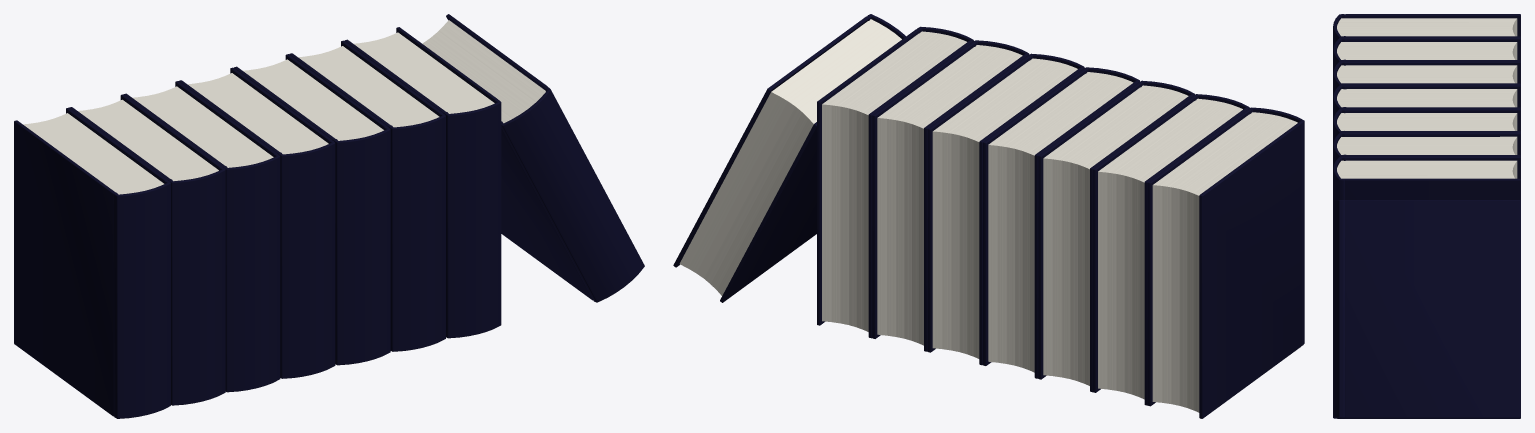
The model's file is Books.glb.
3 views of the same model, side by side, from view 1: azimuth 30°, elevation 25°; view 2: azimuth 150°, elevation 25°; view 3: azimuth 270°, elevation 25° (orthographic). The views are drawn at different scales.
Visible parts, largest first — view 1: bookCover, bookCover.007, bookCover.004, bookCover.005, bookCover.006, bookCover.003, bookCover.002, bookCover.001, bookPaper.007, bookPaper.001, bookPaper.002, bookPaper.006 (+4 smaller); view 2: bookCover, bookPaper.007, bookPaper.004, bookPaper, bookPaper.003, bookPaper.001, bookPaper.005, bookPaper.006, bookPaper.002, bookCover.007, bookCover.003, bookCover.004 (+4 smaller); view 3: bookCover.007, bookCover.006, bookPaper.002, bookPaper, bookPaper.006, bookPaper.003, bookPaper.005, bookPaper.001, bookPaper.004, bookCover.005, bookCover.002, bookCover.004 (+3 smaller).
Part boxes in pixels (x1,y1,x2,y2): bookCover: (14, 107, 170, 418); bookCover.007: (446, 14, 644, 302); bookCover.004: (234, 54, 390, 365); bookCover.005: (289, 40, 445, 351); bookCover.006: (344, 27, 501, 338); bookCover.003: (179, 67, 335, 378); bookCover.002: (124, 81, 280, 392); bookCover.001: (69, 94, 225, 405); bookPaper.007: (422, 20, 545, 123); bookPaper.001: (78, 99, 218, 181); bookPaper.002: (132, 86, 273, 167); bookPaper.006: (353, 32, 494, 113); bookCover: (1147, 107, 1304, 418); bookPaper.007: (679, 19, 901, 295); bookPaper.004: (932, 58, 1077, 358); bookPaper: (1152, 112, 1297, 412); bookPaper.003: (988, 72, 1133, 372); bookPaper.001: (1098, 98, 1242, 399); bookPaper.005: (877, 45, 1022, 345); bookPaper.006: (822, 31, 966, 331); bookPaper.002: (1043, 85, 1188, 385); bookCover.007: (673, 14, 905, 302); bookCover.003: (983, 67, 1139, 378); bookCover.004: (927, 53, 1084, 365); bookCover.007: (1333, 200, 1520, 418); bookCover.006: (1333, 156, 1520, 200); bookPaper.002: (1337, 65, 1517, 83); bookPaper: (1337, 18, 1517, 36); bookPaper.006: (1337, 160, 1517, 178); bookPaper.003: (1337, 89, 1517, 107); bookPaper.005: (1337, 136, 1517, 154); bookPaper.001: (1337, 42, 1517, 59); bookPaper.004: (1337, 113, 1517, 130); bookCover.005: (1333, 132, 1520, 168); bookCover.002: (1333, 61, 1520, 96); bookCover.004: (1333, 108, 1520, 144).
Size of the model in its own units: 0.7665 by 0.3121 by 0.2667.
